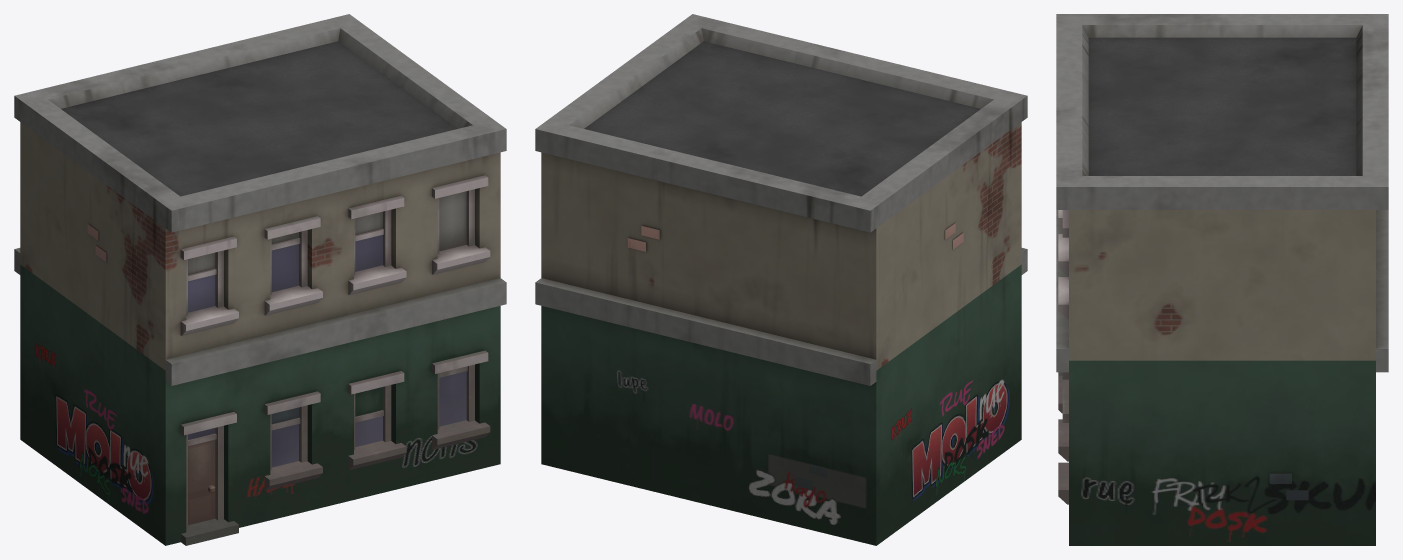
File: building_B.glb
3 views of the same model, side by side, from view 1: azimuth 30°, elevation 25°; view 2: azimuth 150°, elevation 25°; view 3: azimuth 270°, elevation 25° (orthographic). The views are drawn at different scales.
Visible parts, largest first — view 1: building_B_withoutBase; view 2: building_B_withoutBase; view 3: building_B_withoutBase.
Boxes of the visible parts, left/top/right/bottom form: building_B_withoutBase: left=14, top=14, right=506, bottom=545; building_B_withoutBase: left=535, top=14, right=1027, bottom=545; building_B_withoutBase: left=1056, top=14, right=1388, bottom=545.
Bounding box in the file's own units: 1.61 × 1.55 × 1.3.
2 materials, 2 textured.
